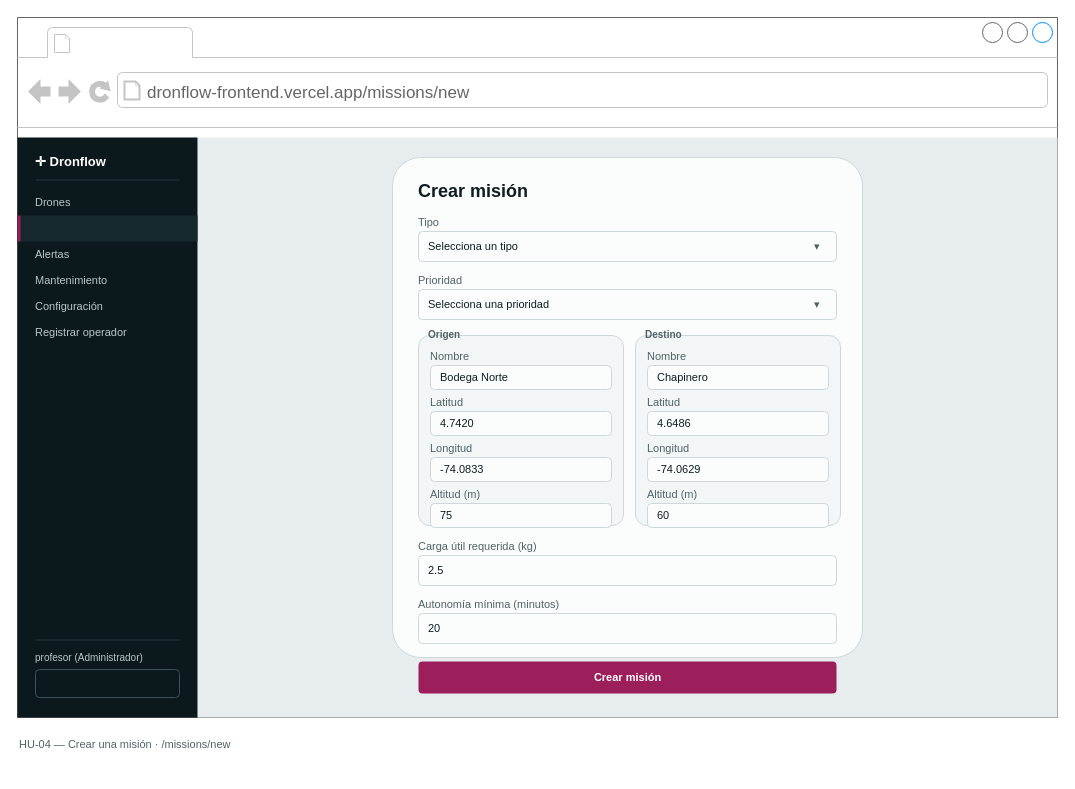
The diagram is 1075 pixels wide and 789 high, and some of its shapes have lost their labels. The shapes that lost their labels are listed below. From the top down, each one's centre as x and y in pixels, then its label:
At (x=107, y=228): "Misiones".
At (x=107, y=683): "Cerrar sesión".
